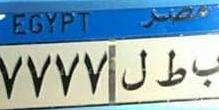7: (81, 48, 108, 100), (24, 54, 52, 103), (54, 51, 80, 100), (0, 53, 23, 101)
Taa: (154, 47, 188, 91)
baa: (189, 55, 219, 90)
laam: (119, 46, 148, 96)
